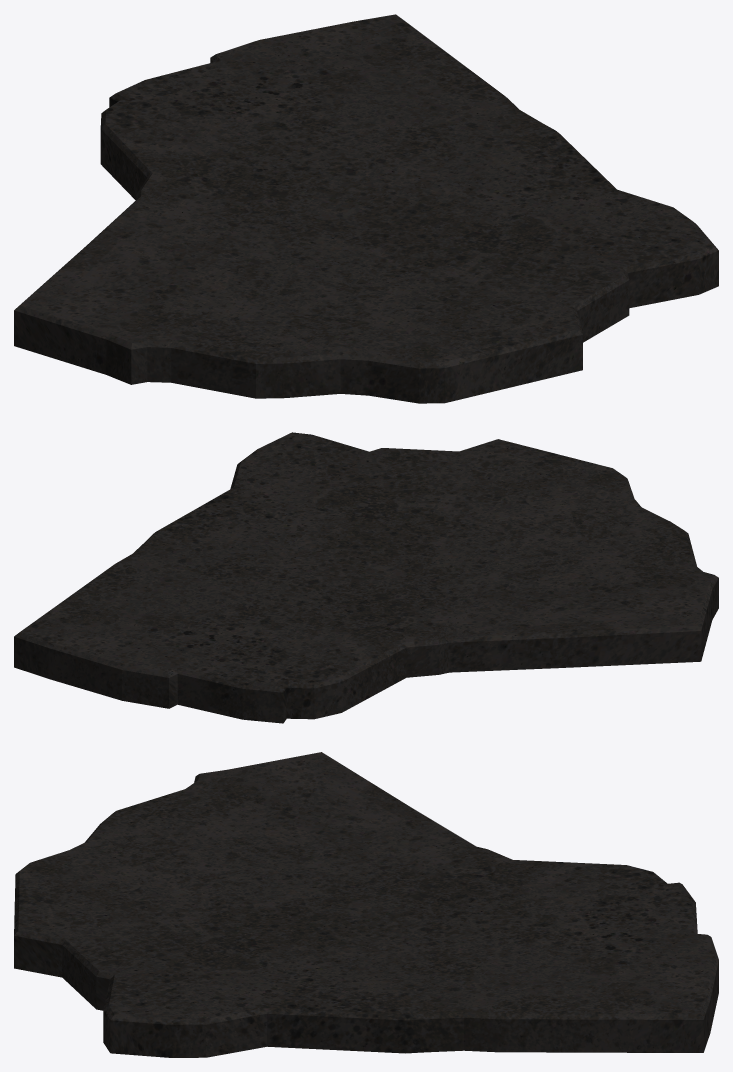
Rendered from FloorDmg02.fbx.
The picture shows the model from 3 angles, top to bottom: view 1: azimuth 30°, elevation 25°; view 2: azimuth 150°, elevation 25°; view 3: azimuth 270°, elevation 25°; orthographic projection. The views are drawn at different scales.
Parts seen in each view (by area): view 1: SM_ENV_NATURE_Cave_Floor_Dmg_02.mo; view 2: SM_ENV_NATURE_Cave_Floor_Dmg_02.mo; view 3: SM_ENV_NATURE_Cave_Floor_Dmg_02.mo.
Part boxes in pixels (x1,y1,x2,y2): SM_ENV_NATURE_Cave_Floor_Dmg_02.mo: (14,14,718,403); SM_ENV_NATURE_Cave_Floor_Dmg_02.mo: (14,432,718,723); SM_ENV_NATURE_Cave_Floor_Dmg_02.mo: (14,752,718,1057).
Size of the model in its own units: 471 by 30.81 by 518.
Materials: 1 (1 with a texture image).
